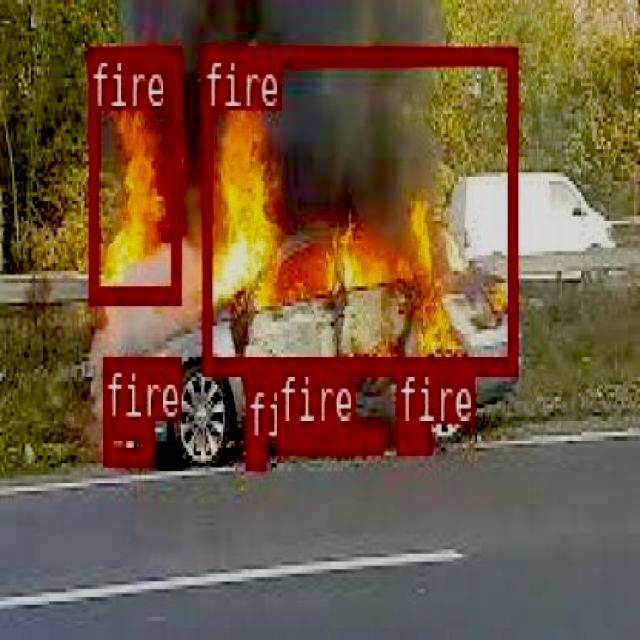fire: (200, 46, 514, 372), (86, 45, 180, 302), (276, 422, 381, 450), (102, 418, 152, 460), (395, 420, 428, 451), (244, 437, 264, 466)
